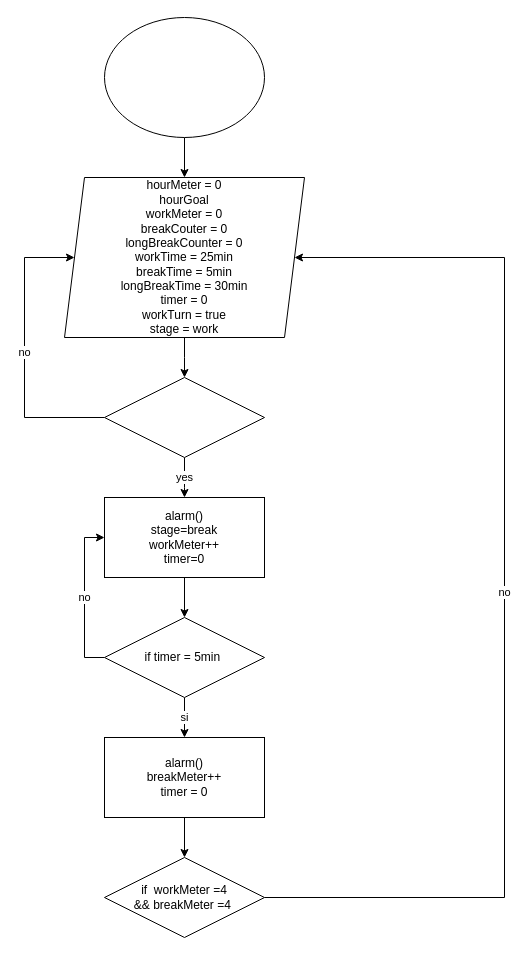
The diagram is 530 pixels wide and 955 high, and some of its shapes have lost their labels. Here are the shapes that lost their labels. From the top down, the box of each, then its label:
(104, 16, 264, 138): Inicio
(104, 376, 264, 458): if timer 0 = 25mi
